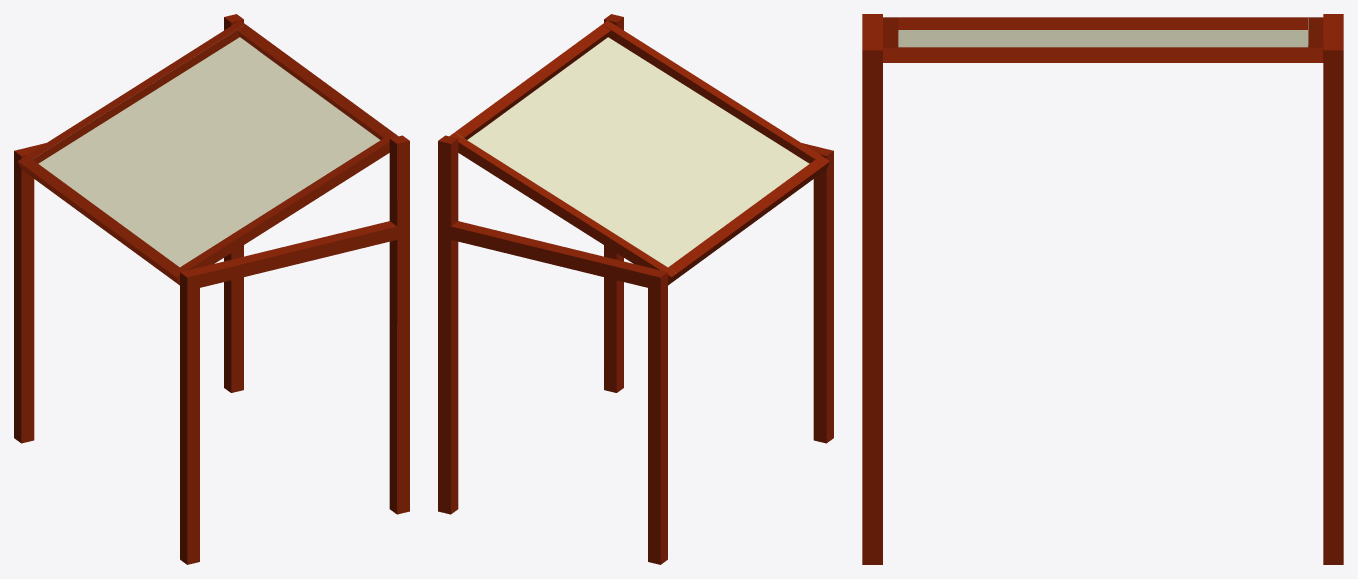
File: RWAL_op30.dae
3 renders of one model, left to right at view 1: azimuth 30°, elevation 25°; view 2: azimuth 150°, elevation 25°; view 3: azimuth 270°, elevation 25°, orthographic. The views are drawn at different scales.
Visible parts, largest first — view 1: RWAL_op30; view 2: RWAL_op30; view 3: RWAL_op30.
Boxes of the visible parts, x1,y1,x2,y2 form: RWAL_op30: (14,14,409,564); RWAL_op30: (438,14,833,564); RWAL_op30: (862,14,1343,564).
Bounding box in the file's own units: 0.7088 × 0.9403 × 1.11.
2 materials, 2 textured.
